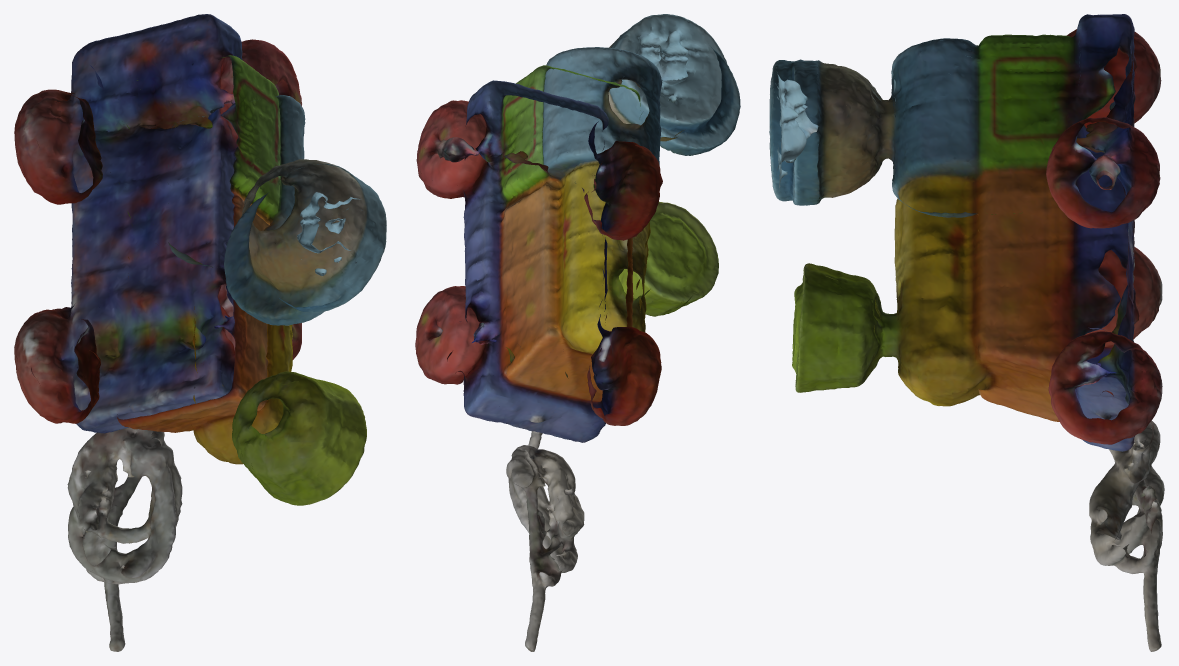
The model's file is train.glb.
3 renders of one model, left to right at view 1: azimuth 30°, elevation 25°; view 2: azimuth 150°, elevation 25°; view 3: azimuth 270°, elevation 25°, orthographic. The views are drawn at different scales.
Size of the model in its own units: 0.4281 by 1 by 0.5776.
